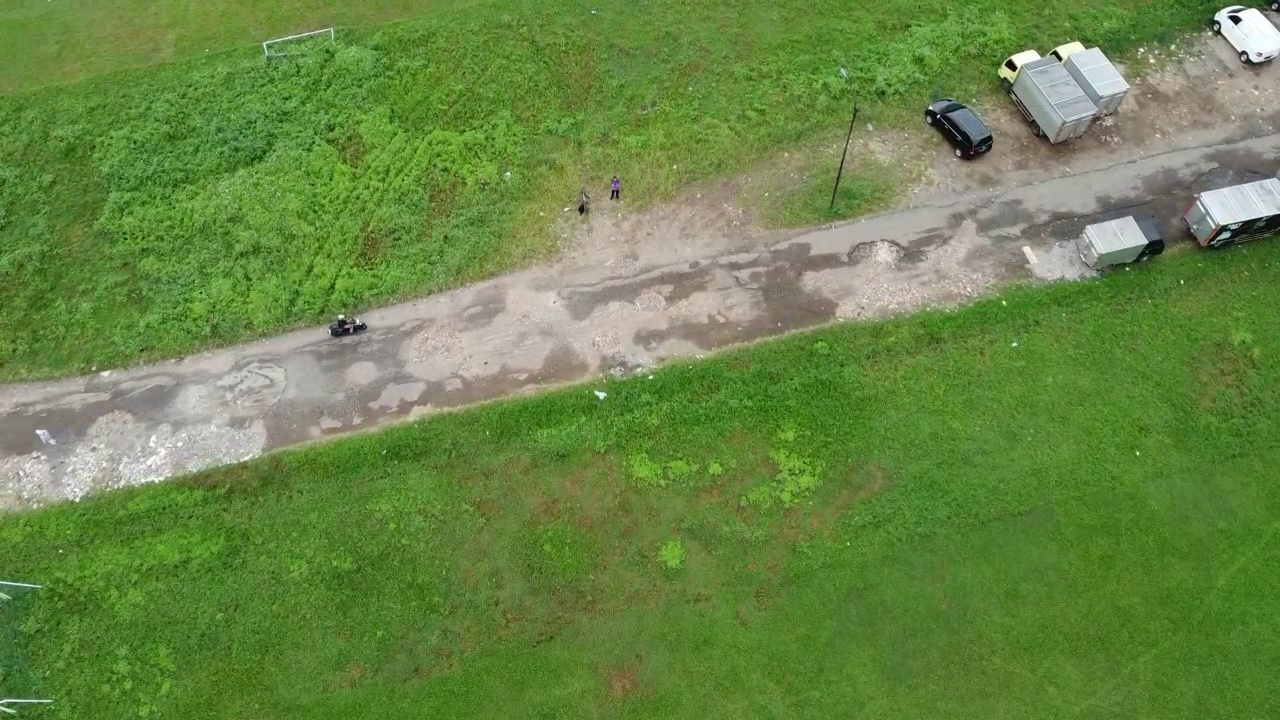mobil: (915, 91, 998, 163), (1201, 2, 1280, 77)
